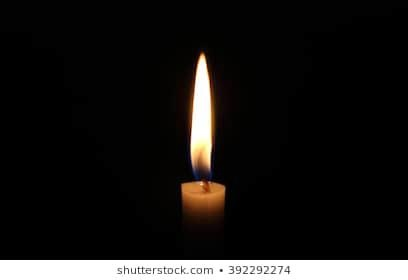fire: (188, 46, 214, 179)
